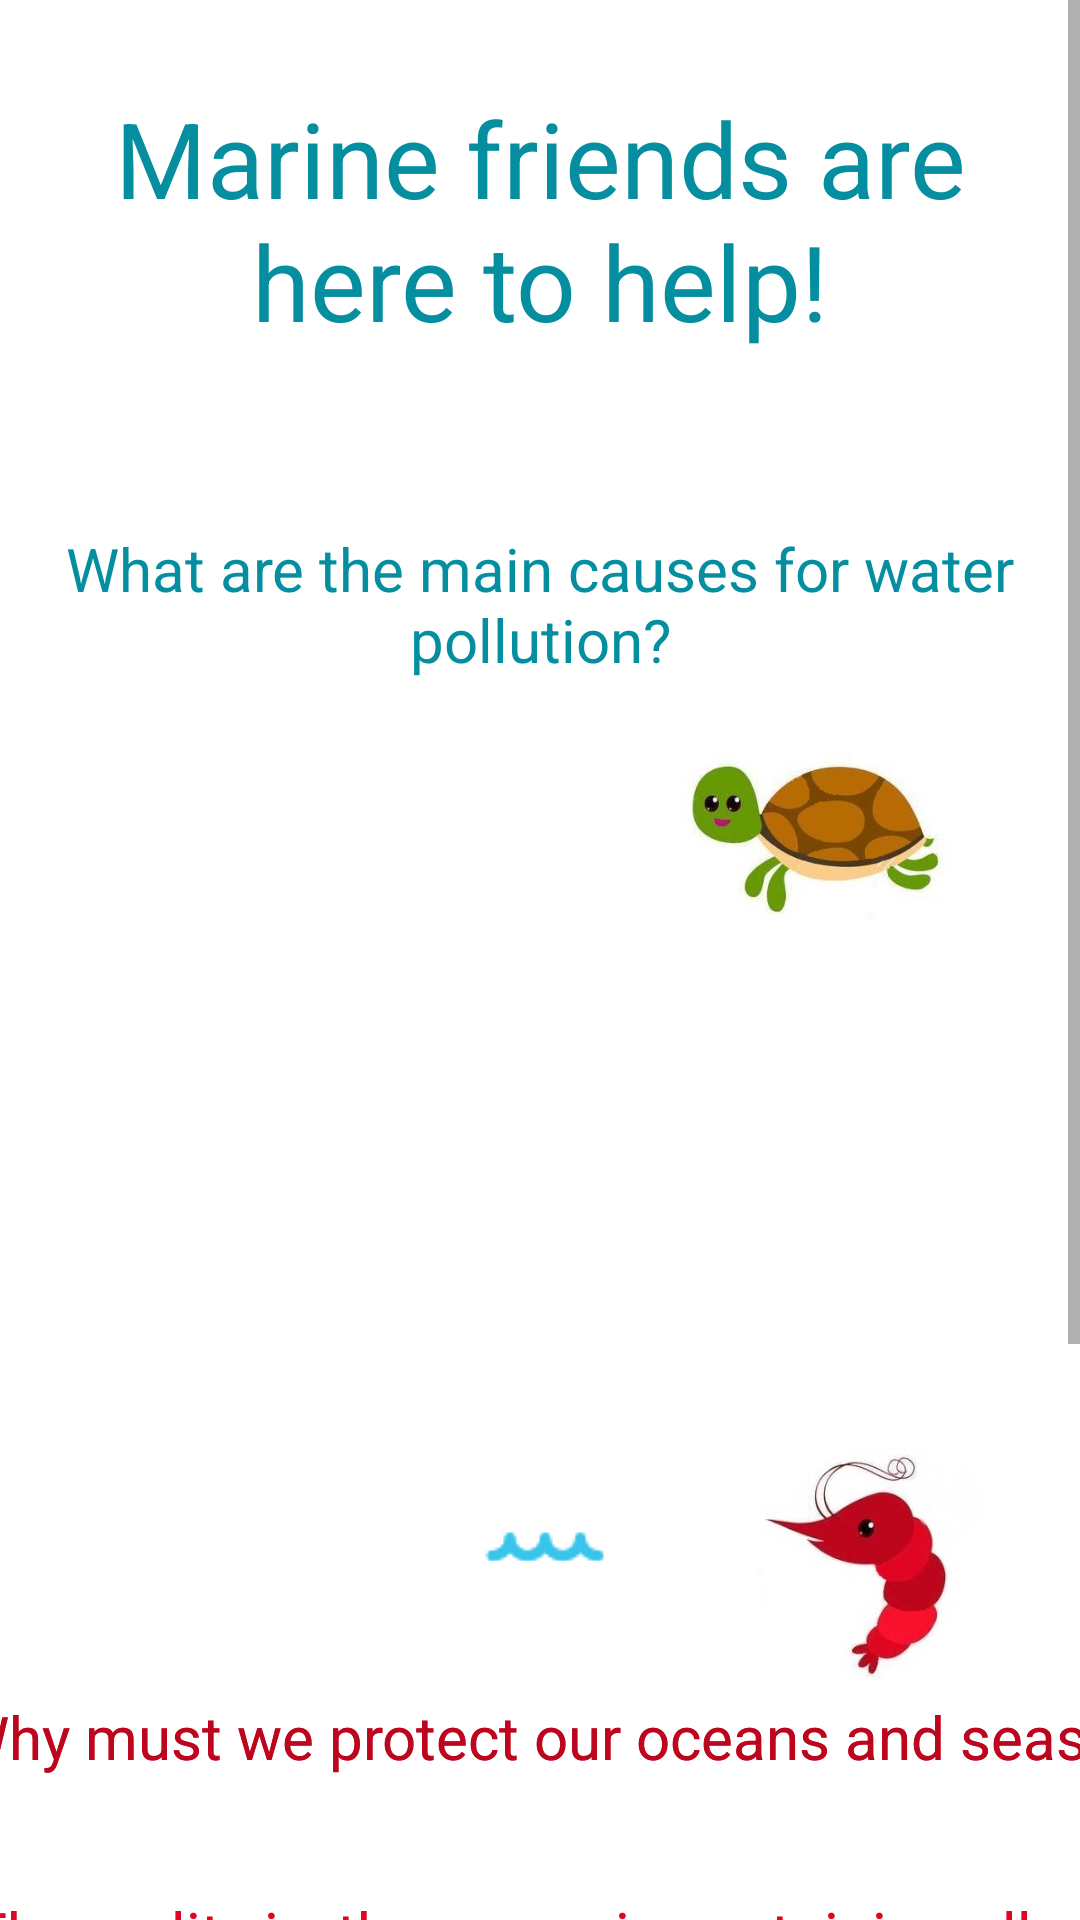

Screen size 1080px×1920px. Icon name, then its center in pixels as (x=x, y=y):
turtle: (x=815, y=838)
